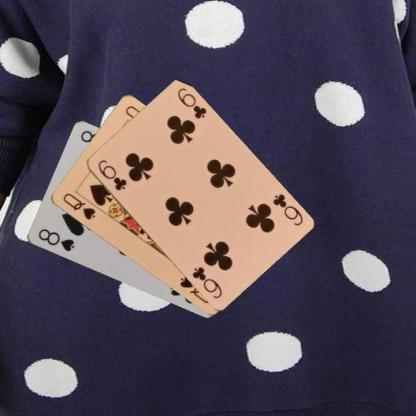6c: (269, 191, 304, 227), (94, 157, 127, 192)
8s: (35, 226, 75, 253)
Qs: (60, 190, 97, 222)
